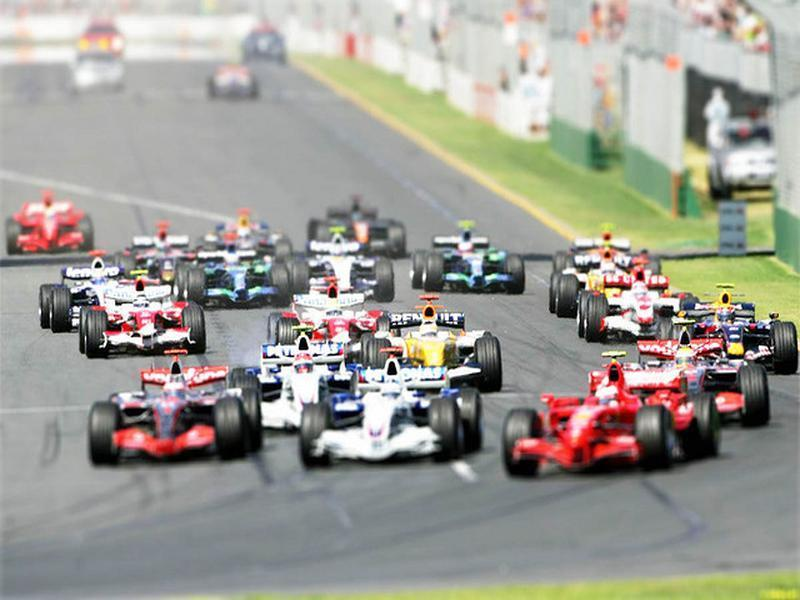f1: (503, 370, 715, 471), (89, 358, 266, 465), (291, 371, 486, 466), (83, 295, 222, 359), (410, 226, 534, 295)
